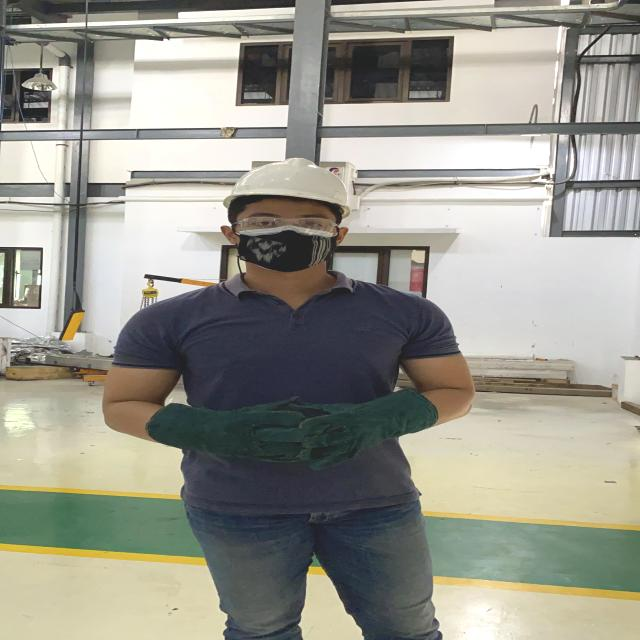face_mask: (226, 210, 344, 268)
glasses: (229, 215, 341, 235)
hand_glove: (206, 398, 306, 465), (284, 399, 380, 467)
head_helmet: (220, 154, 357, 212)
person: (105, 155, 499, 640)
